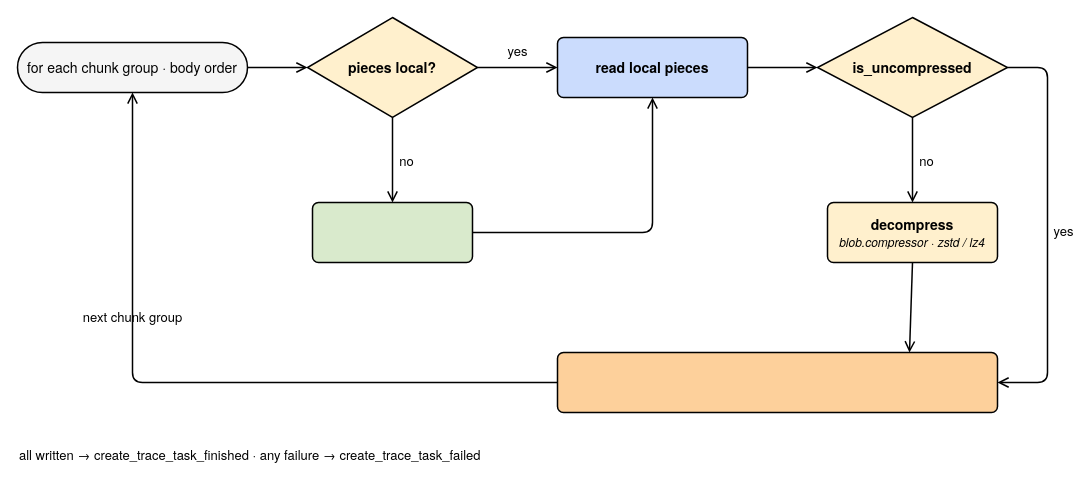
Some shapes in this 1091 by 484 pixel diagram are drawn without their labels. Here are the shapes that lost their labels. From the top down, the centre of each, then its label:
At point 392,232: "download P2P / origin".
At point 777,382: "write into the trace task offset = data_offset + Σ uncompressed_size".
